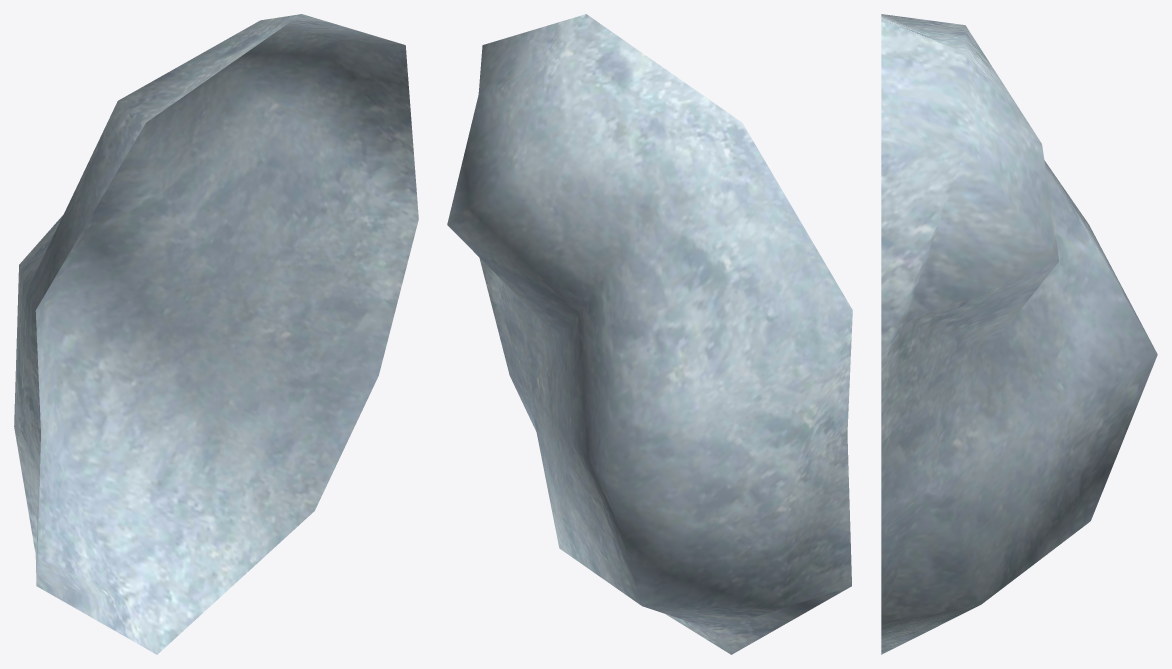
3 renders of one model, left to right at view 1: azimuth 30°, elevation 25°; view 2: azimuth 150°, elevation 25°; view 3: azimuth 270°, elevation 25°, orthographic. The views are drawn at different scales.
Parts seen in each view (by area): view 1: Object06; view 2: Object06; view 3: Object06.
Boxes of the visible parts, x1,y1,x2,y2 form: Object06: (14,14,418,654); Object06: (447,14,852,654); Object06: (881,14,1157,654).
Bounding box in the file's own units: 27545 × 41598 × 14518.
